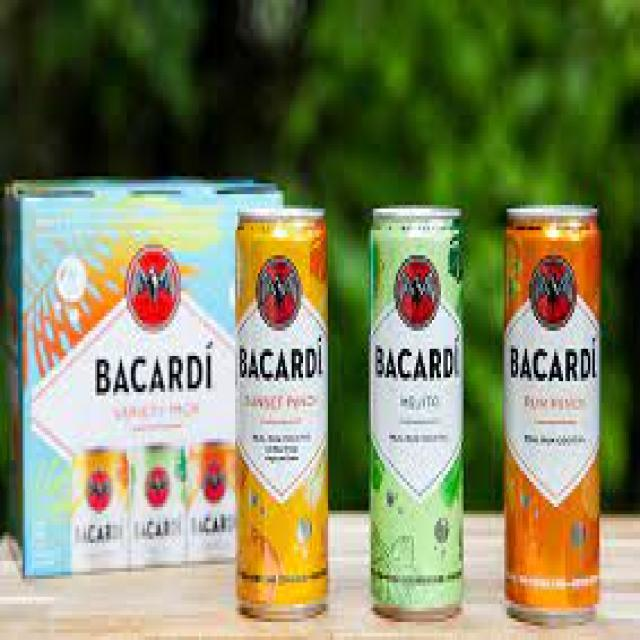Cans: (498, 194, 608, 636), (364, 198, 470, 629), (230, 202, 334, 630)
